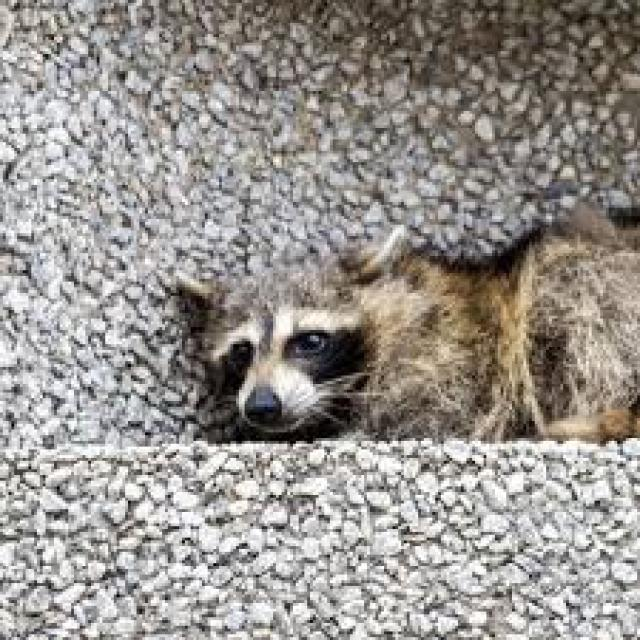Raccoon: (183, 200, 640, 457)
